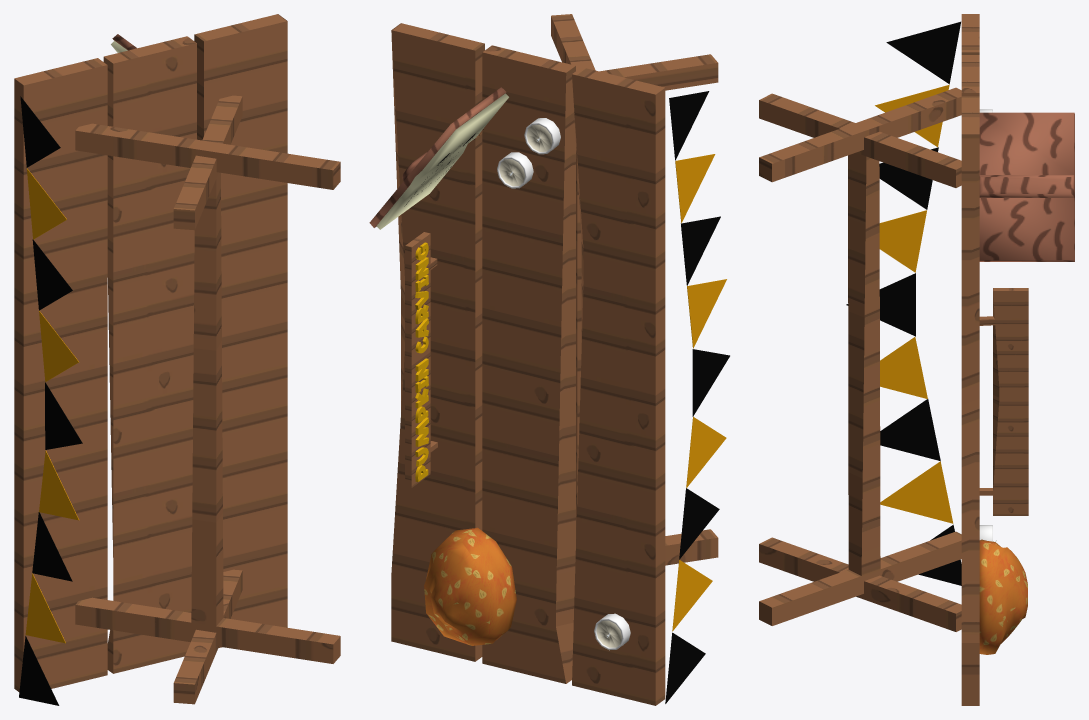
Rendered from item-portablecarvestation.glb.
3 views of the same model, side by side, from view 1: azimuth 30°, elevation 25°; view 2: azimuth 150°, elevation 25°; view 3: azimuth 270°, elevation 25° (orthographic). The views are drawn at different scales.
Bounding box in the file's own units: 2.84 × 6.21 × 3.09.
11 materials, 5 textured.
